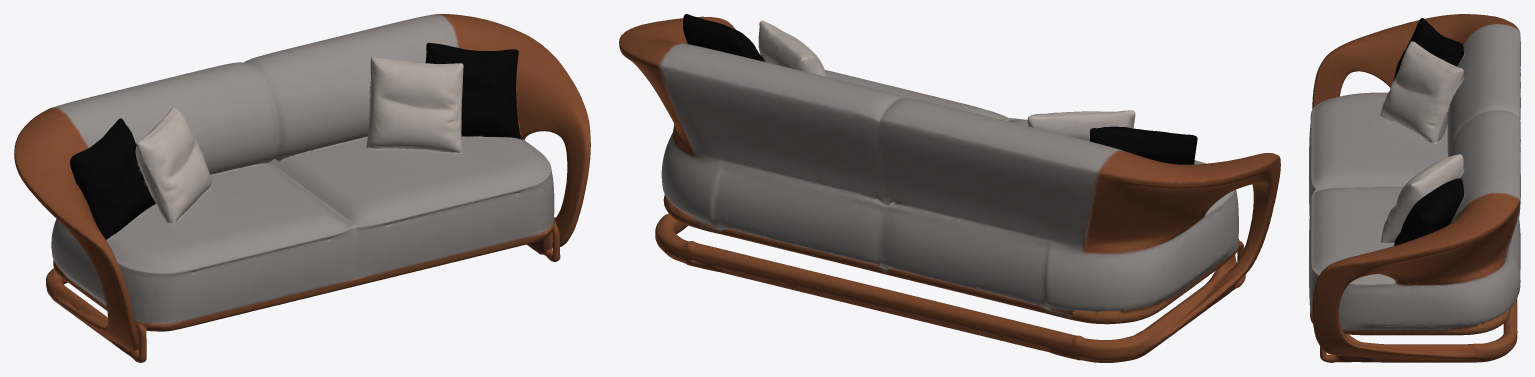
The model's file is Contemporary Grey Fabric Sofa with Sculptural Wood Frame [LWCAl6].glb.
The picture shows the model from 3 angles, left to right: view 1: azimuth 30°, elevation 25°; view 2: azimuth 150°, elevation 25°; view 3: azimuth 270°, elevation 25°; orthographic projection. The views are drawn at different scales.
Parts seen in each view (by area): view 1: world; view 2: world; view 3: world.
Boxes of the visible parts, x1,y1,x2,y2 form: world: (14,14,590,362); world: (619,14,1280,362); world: (1309,14,1520,362).
Size of the model in its own units: 1 by 0.3299 by 0.3863.
Materials: 1 (1 with a texture image).
